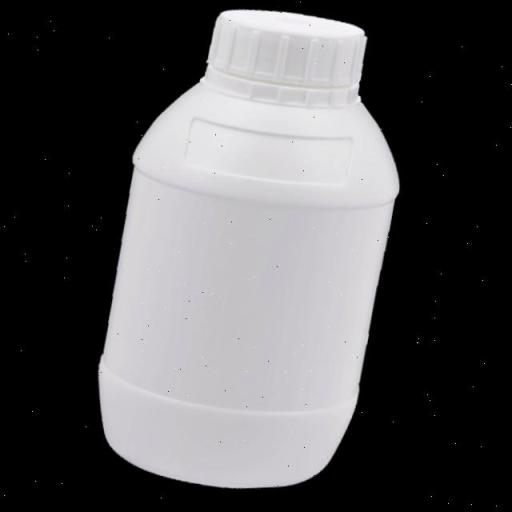plastic: (66, 0, 434, 510)
